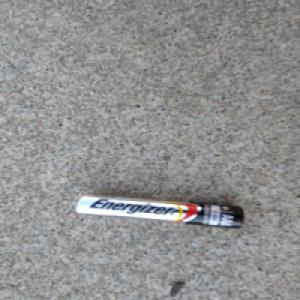Battery: (73, 192, 245, 230)
